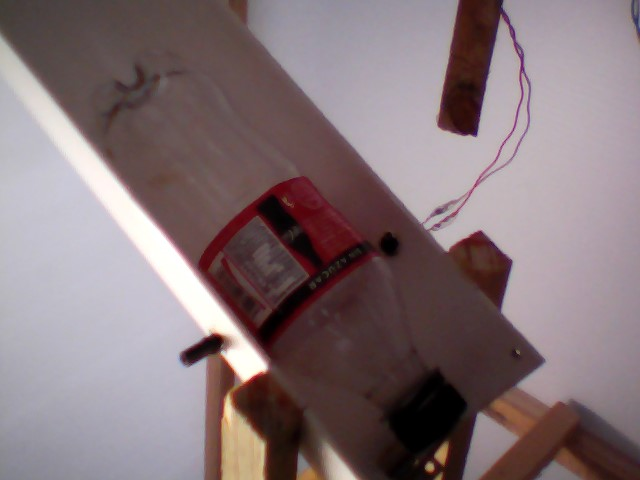plastico: (75, 41, 477, 470)
